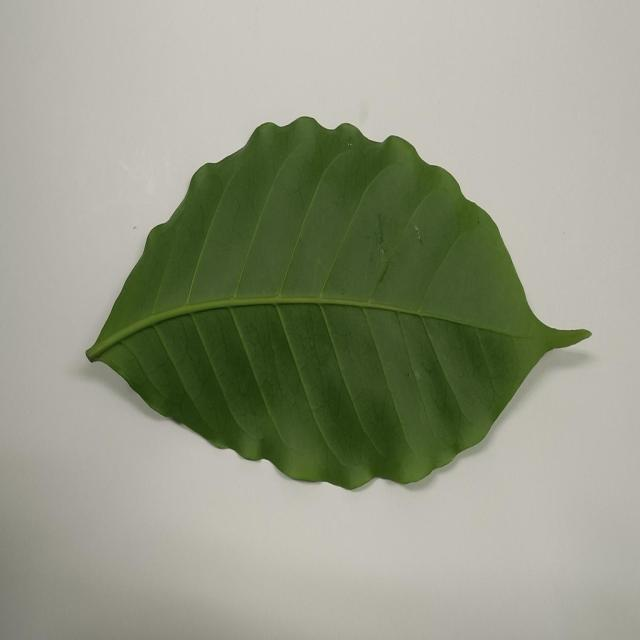Sanas: (85, 118, 591, 492)
